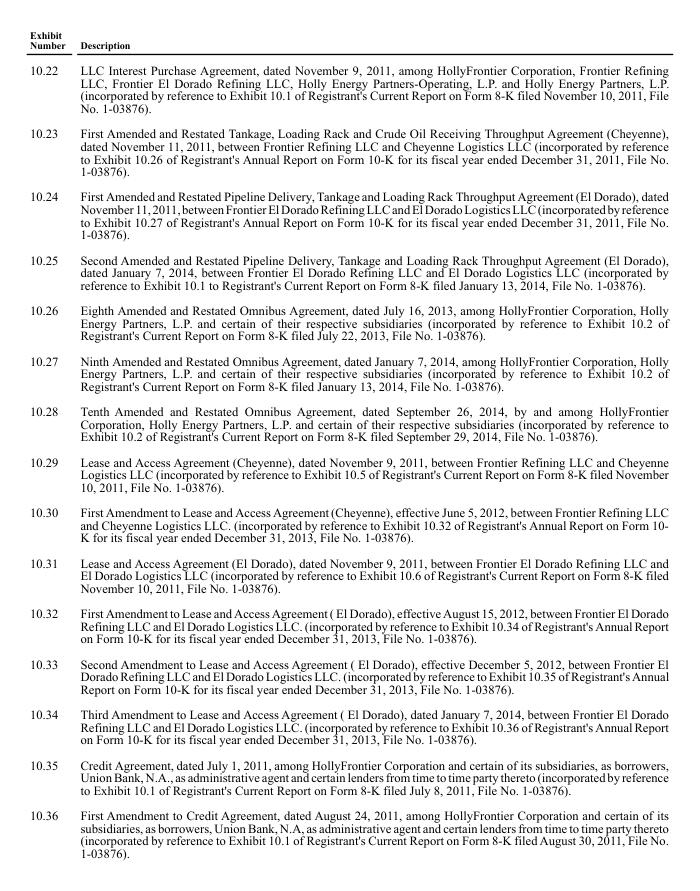table: (28, 28, 668, 859)
table column: (72, 28, 668, 859), (28, 28, 72, 859)
table column header: (28, 28, 668, 56)
table row: (28, 56, 668, 120), (28, 120, 668, 183), (28, 183, 668, 246), (28, 802, 668, 859), (28, 246, 668, 297), (28, 347, 668, 398), (28, 448, 668, 499), (28, 549, 668, 600), (28, 650, 668, 701), (28, 751, 668, 802), (28, 297, 668, 347), (28, 398, 668, 448), (28, 499, 668, 549), (28, 600, 668, 650), (28, 701, 668, 751), (28, 28, 668, 56)
